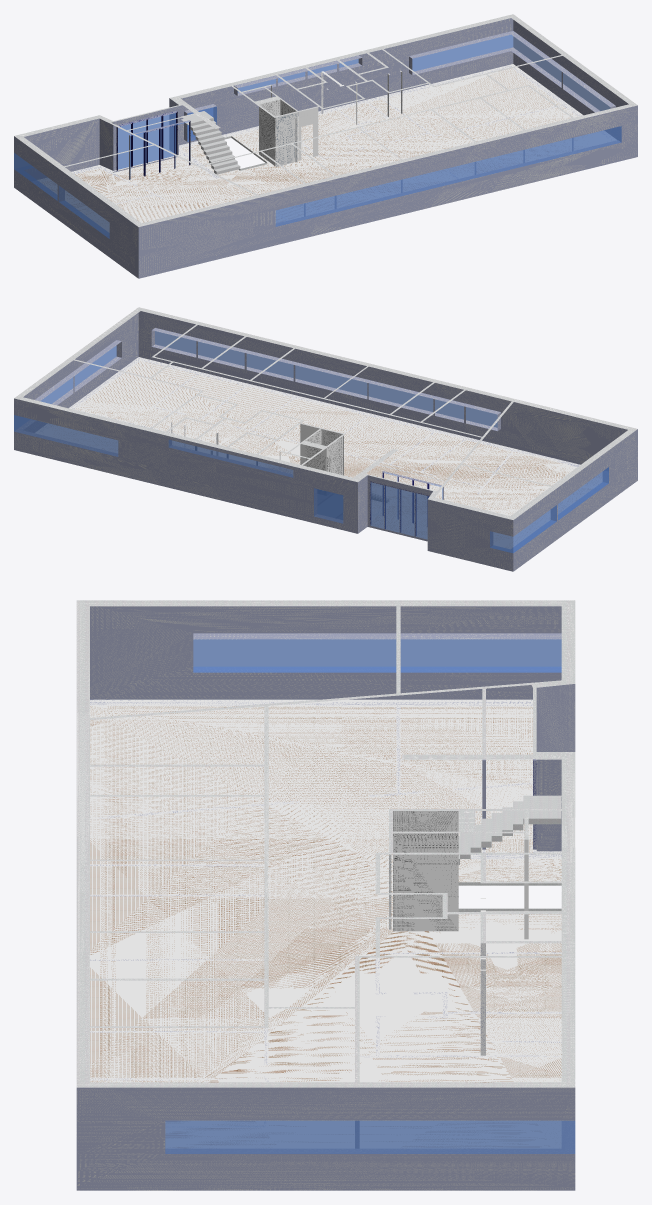
3 views of the same model, one above another, from view 1: azimuth 30°, elevation 25°; view 2: azimuth 150°, elevation 25°; view 3: azimuth 270°, elevation 25° (orthographic). The views are drawn at different scales.
Parts seen in each view (by area): view 1: Mesh23 Model; view 2: Mesh23 Model; view 3: Mesh23 Model, Mesh21 escalera1_1 Model.
Boxes of the visible parts, bbox=[...] form: Mesh23 Model: bbox=[14, 14, 637, 278]; Mesh23 Model: bbox=[14, 307, 637, 571]; Mesh23 Model: bbox=[76, 600, 575, 1190]; Mesh21 escalera1_1 Model: bbox=[523, 795, 561, 824].
Size of the model in its own units: 31.65 by 3.13 by 13.69.
11 materials, 3 textured.
